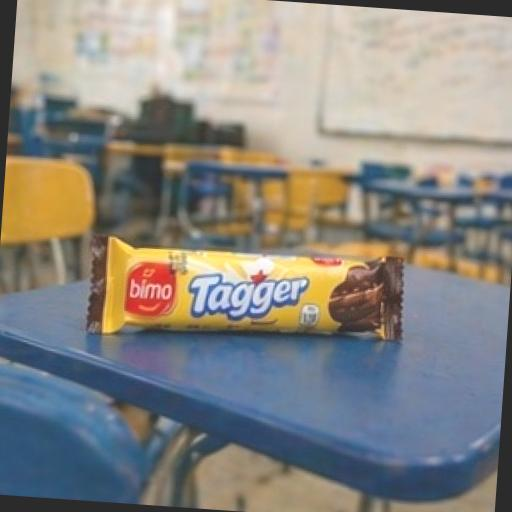tagger: (45, 153, 463, 426)
